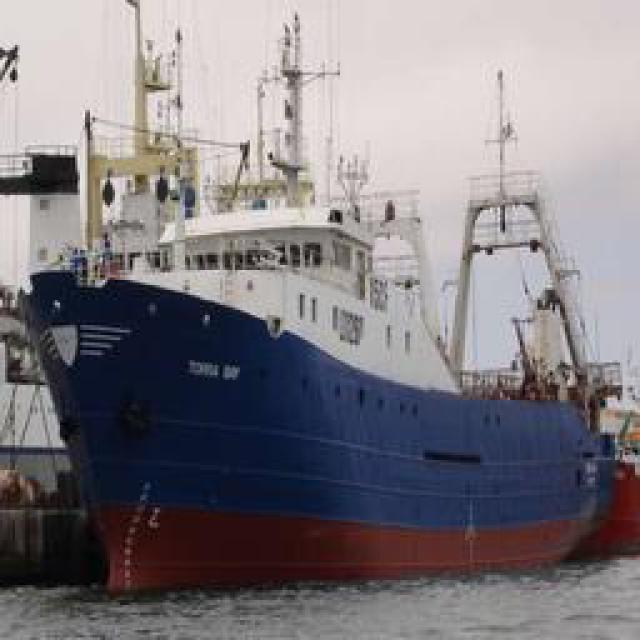Ship: (19, 173, 629, 588)
